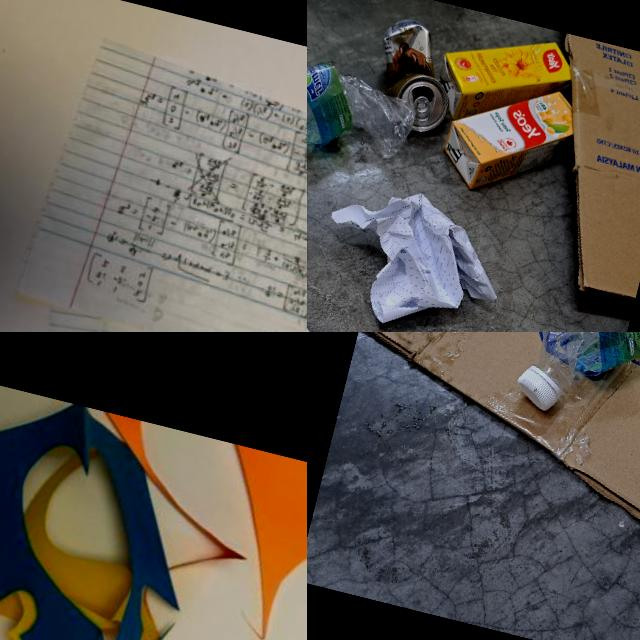aba de lata: (408, 93, 434, 121)
caixinha: (434, 67, 584, 209), (430, 13, 580, 142)
garrafa plástica: (307, 45, 423, 204), (508, 332, 640, 450)
lata: (364, 10, 464, 136)
papel: (5, 34, 307, 332), (0, 365, 307, 640), (307, 169, 523, 332)
papelão: (314, 332, 640, 623), (484, 27, 640, 303)
tampa plástica: (510, 358, 568, 416)
